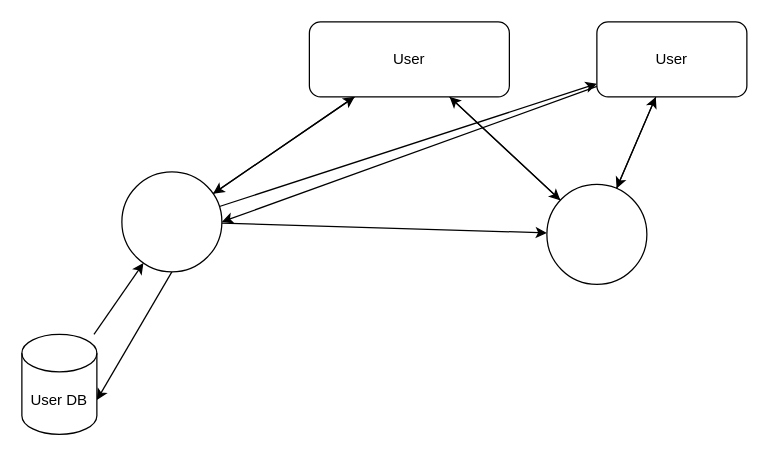
The diagram is 769 pixels wide and 456 high, and some of its shapes have lost their labels. The shapes that lost their labels are listed below. From the top down, each one's centre as x and y in pixels, then its label:
At (171,221): "Websocket / Backend".
At (596,233): "SFU".
